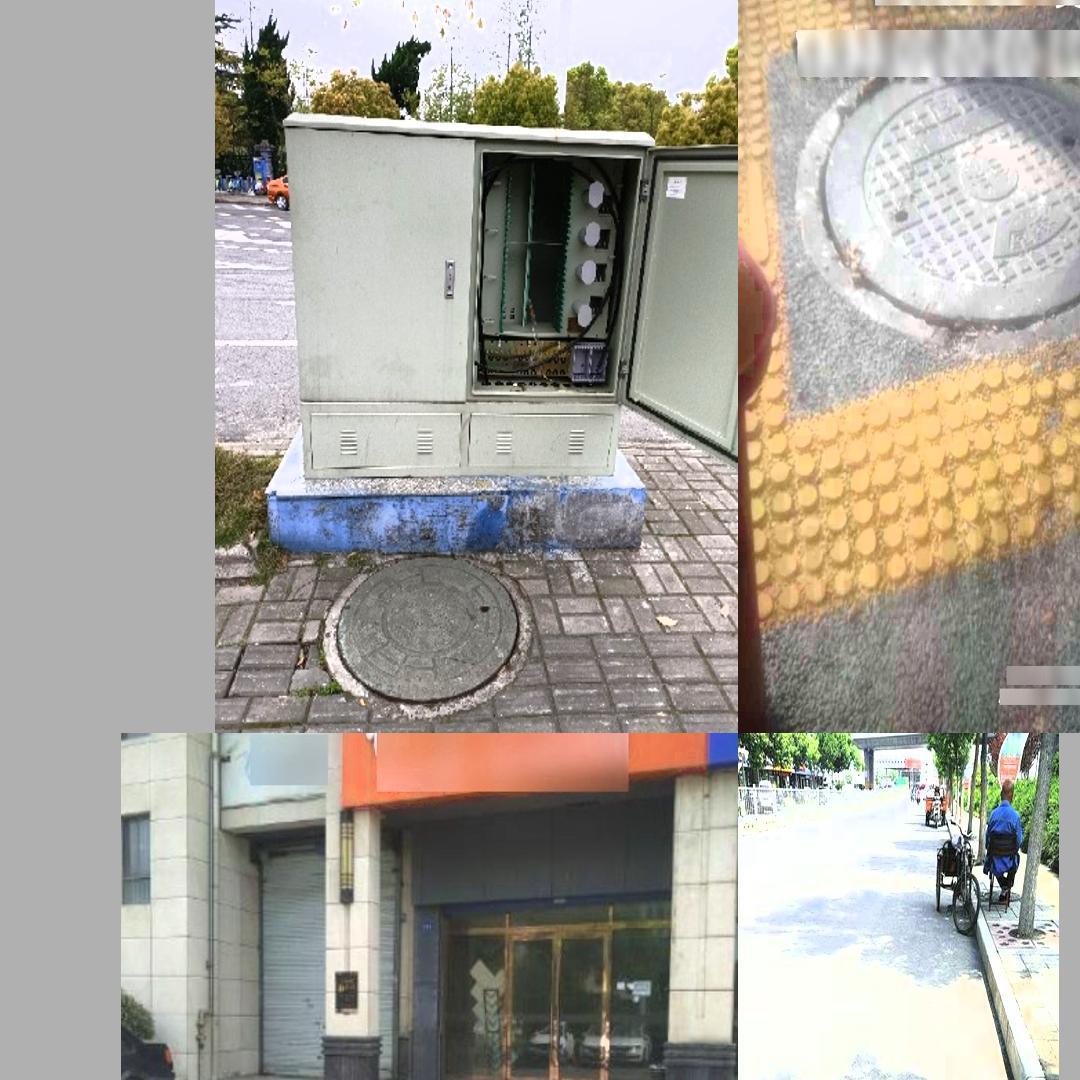good: (821, 60, 1080, 322), (324, 550, 533, 720)
